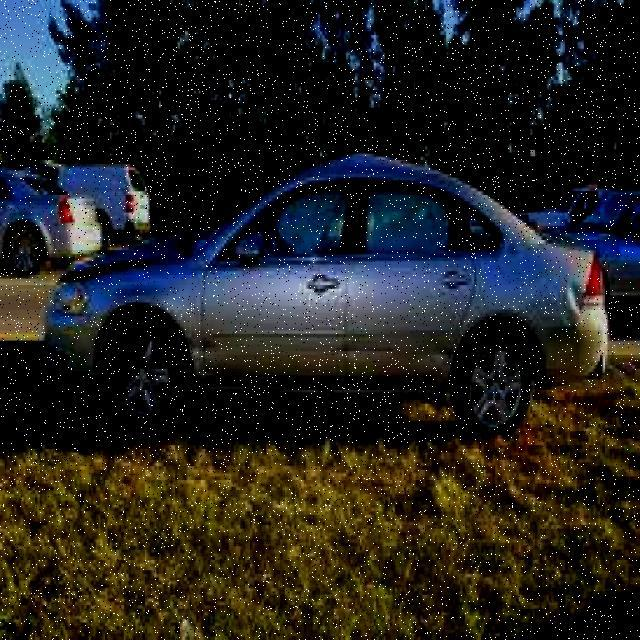car damage: (189, 324, 457, 378), (61, 247, 166, 290), (556, 275, 591, 331)
